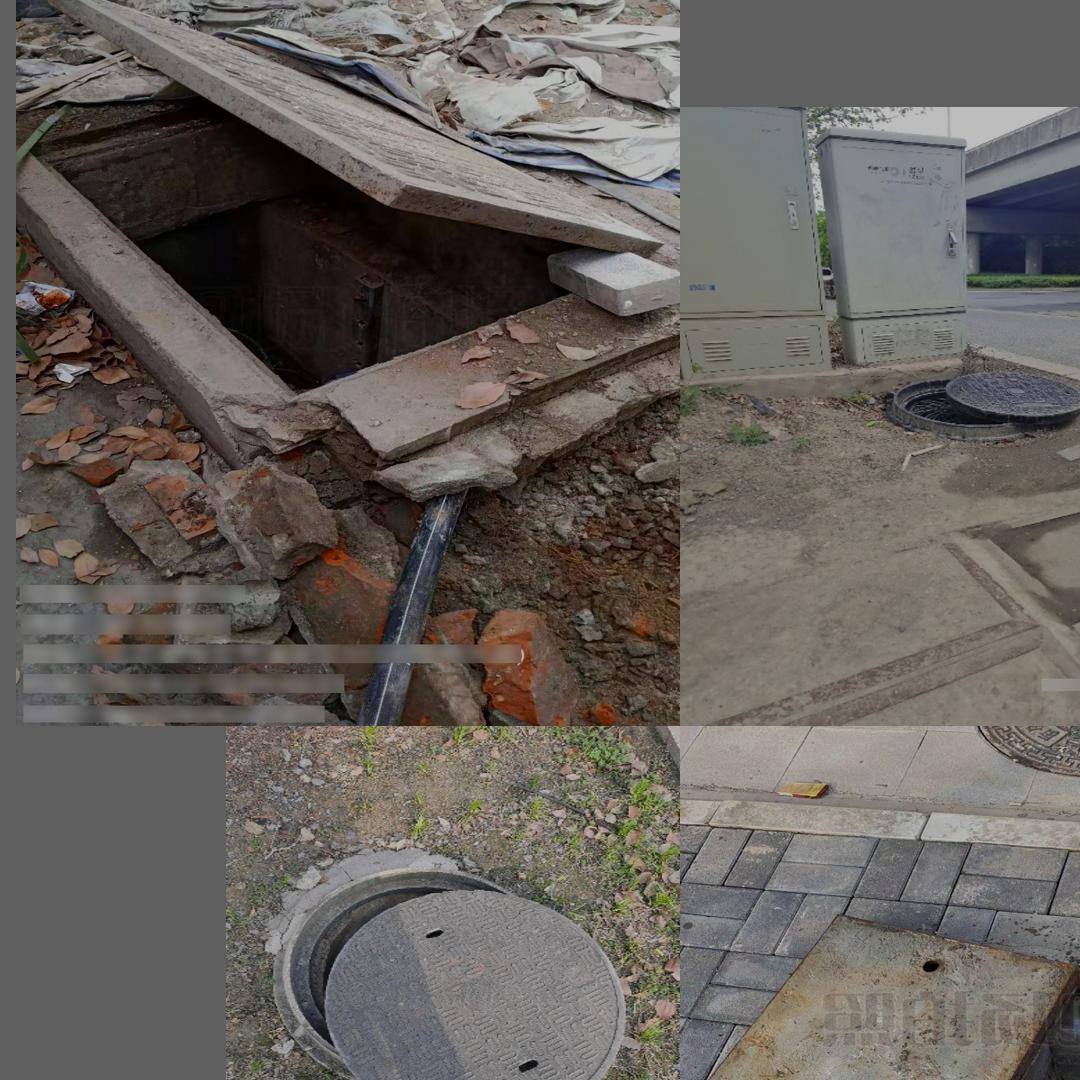uncovered: (17, 0, 680, 486), (271, 868, 624, 1080), (680, 916, 1080, 1080), (892, 371, 1080, 435)
